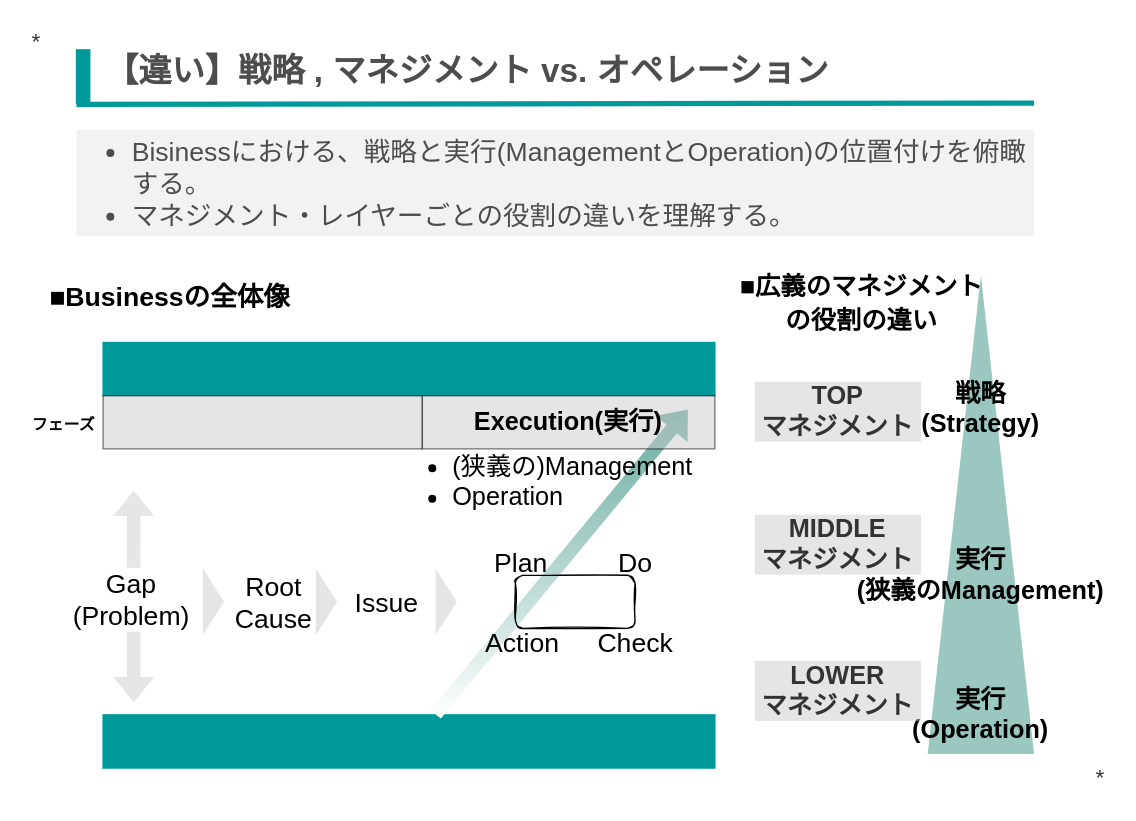
This 1136x821 diagram has some shape labels left out. Here are the shapes that lost their labels. From the top down, the centre of each, then its label:
At (408,368): "TO-BE".
At (262,421): "Strategy(戦略)".
At (408,741): "AS-IS".
